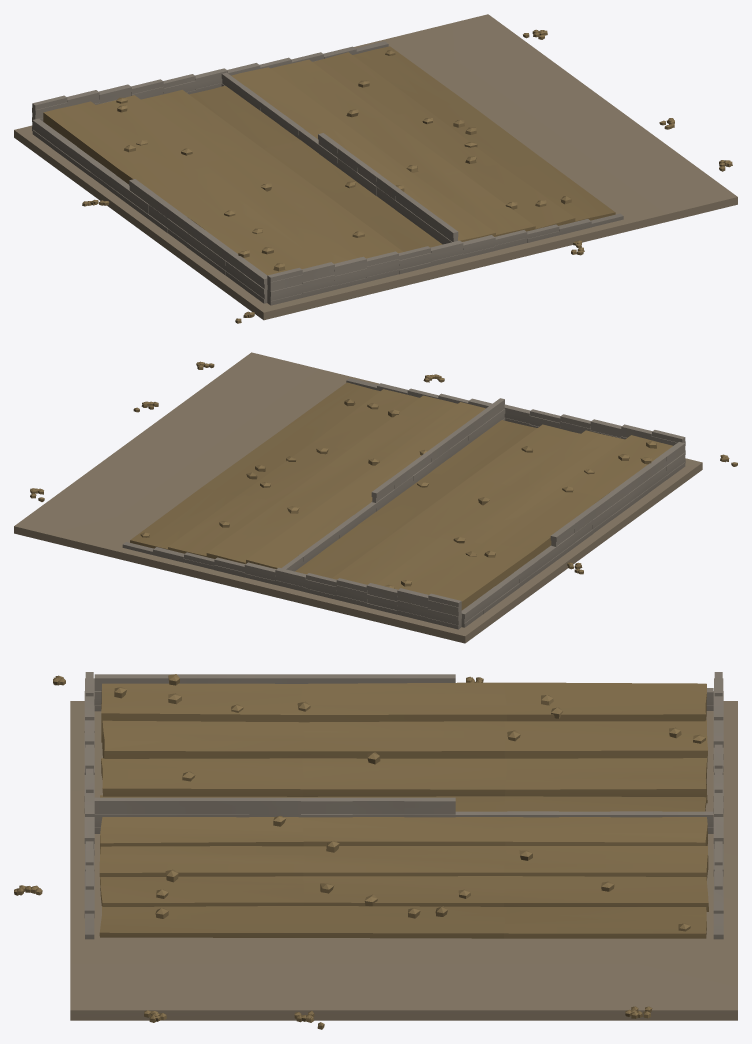
File: caral_pyramid_mayor_phase1_lod0.glb
The picture shows the model from 3 angles, top to bottom: view 1: azimuth 30°, elevation 25°; view 2: azimuth 150°, elevation 25°; view 3: azimuth 270°, elevation 25°; orthographic projection. The views are drawn at different scales.
Parts seen in each view (by area): view 1: GEO-Arch_pyramid_mayor_phase1_LOD0; view 2: GEO-Arch_pyramid_mayor_phase1_LOD0; view 3: GEO-Arch_pyramid_mayor_phase1_LOD0.
Boxes of the visible parts, x1=… form: GEO-Arch_pyramid_mayor_phase1_LOD0: x1=14, y1=14, x2=737, y2=323; GEO-Arch_pyramid_mayor_phase1_LOD0: x1=14, y1=352, x2=737, y2=643; GEO-Arch_pyramid_mayor_phase1_LOD0: x1=14, y1=672, x2=737, y2=1029.
Size of the model in its own units: 51.32 by 3.28 by 44.9.
